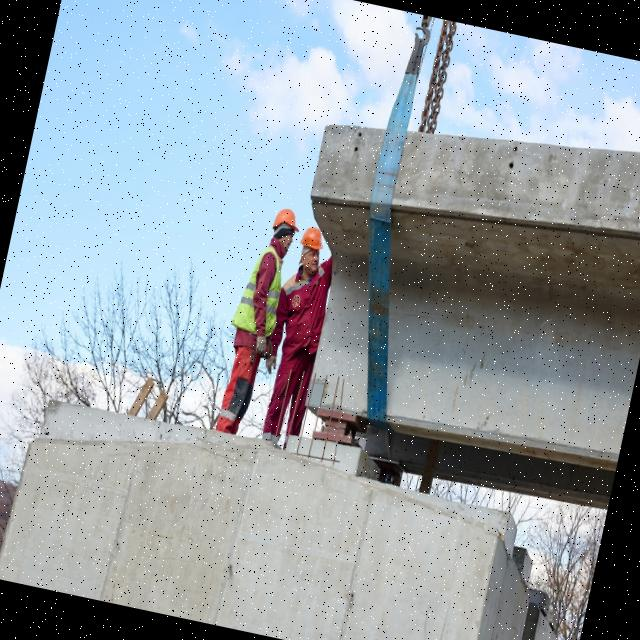Helmet: (276, 264, 332, 356), (272, 206, 305, 242), (298, 225, 328, 257)
